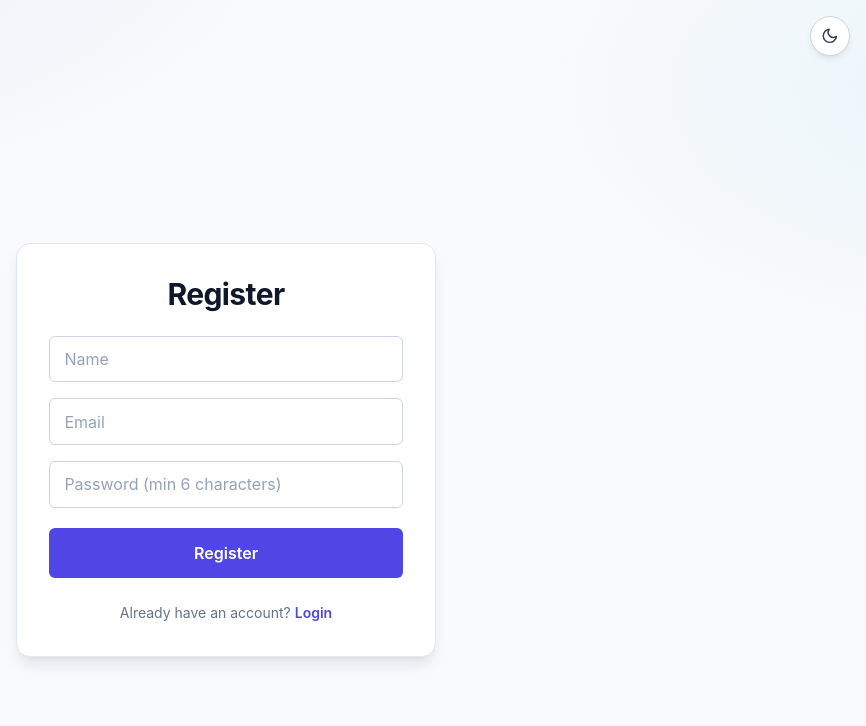
Scenario: Register page › shows an error when registration fails
Type "Alice" into the field with placeholder "Name" at coordinates (226, 359), box [49, 336, 403, 382]
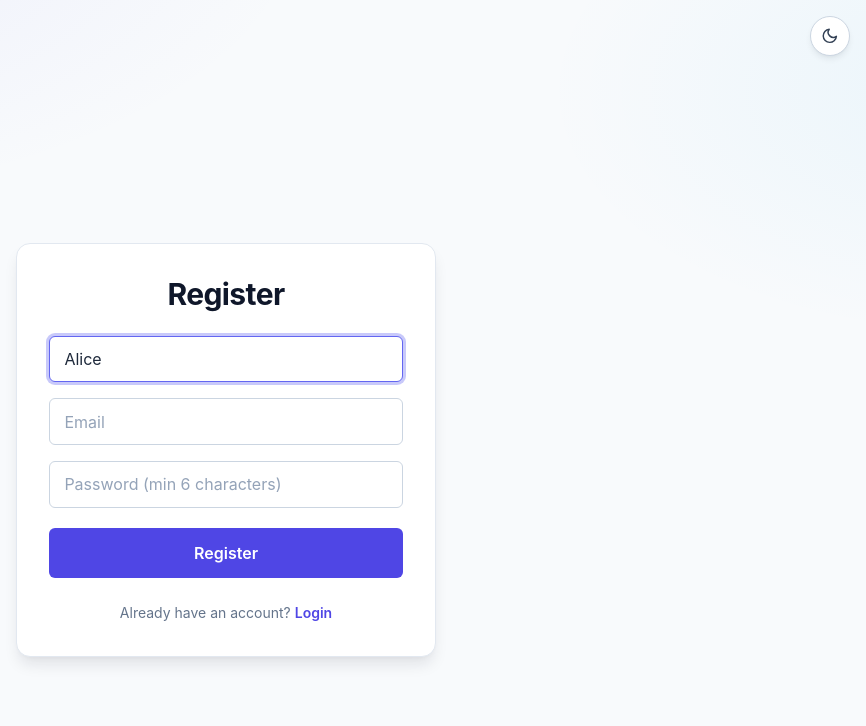
Type "alice@example.com" into the field with placeholder "Email" at coordinates (226, 422), box [49, 398, 403, 445]
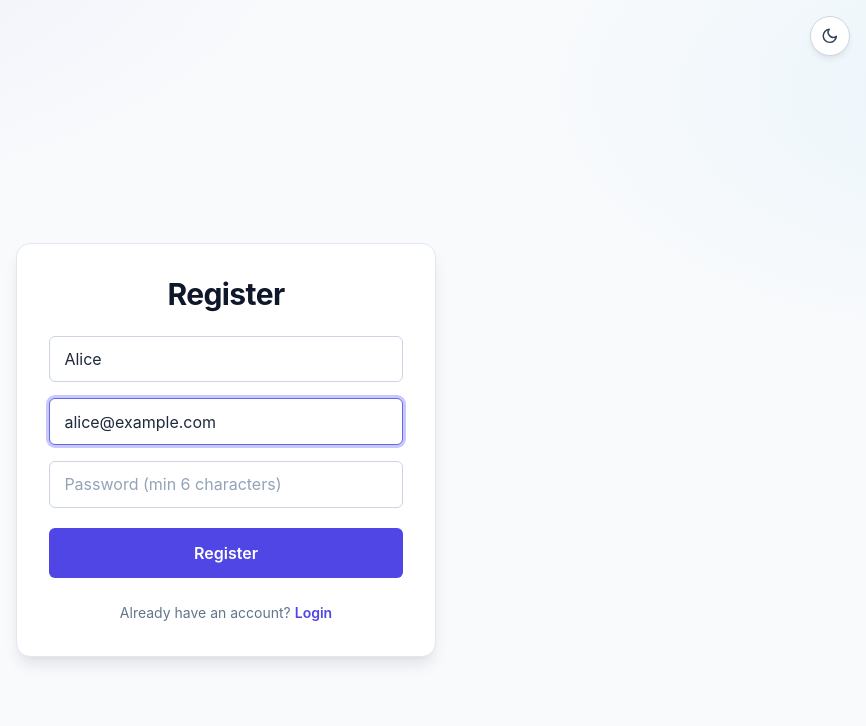
Type "secret123" into the password field with placeholder "Password (min 6 characters)" at coordinates (226, 485), box [49, 461, 403, 508]
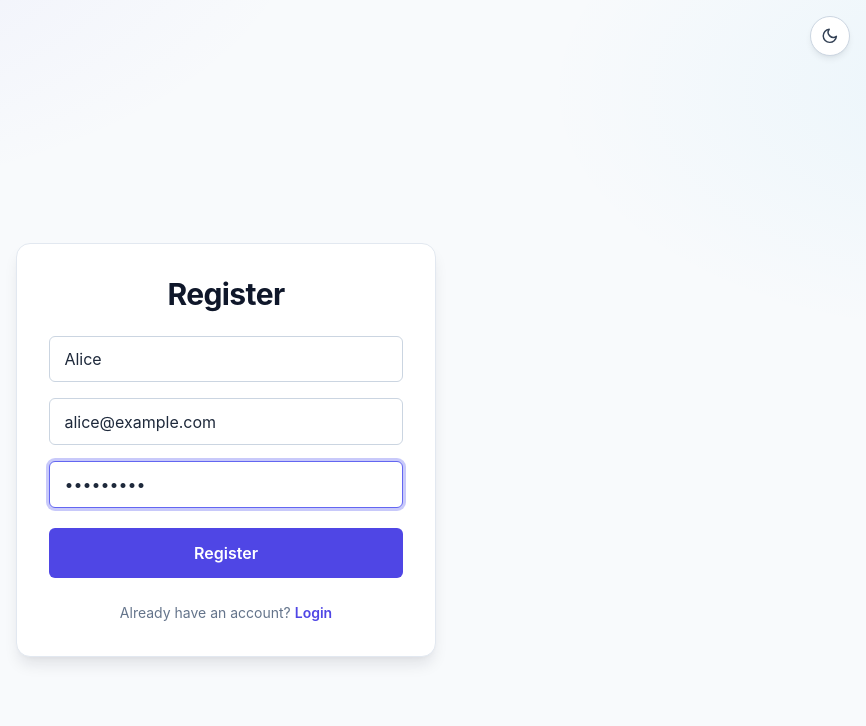
Click the button "Register" at coordinates (226, 553), box [49, 528, 403, 578]
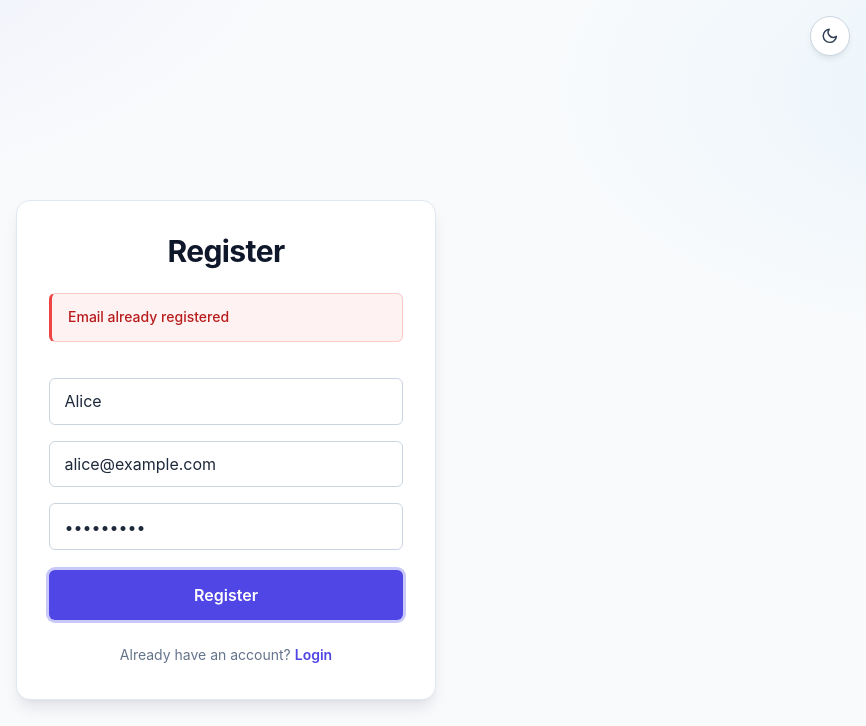
Check: the text "Email already registered" is shown, box [49, 294, 403, 342]
